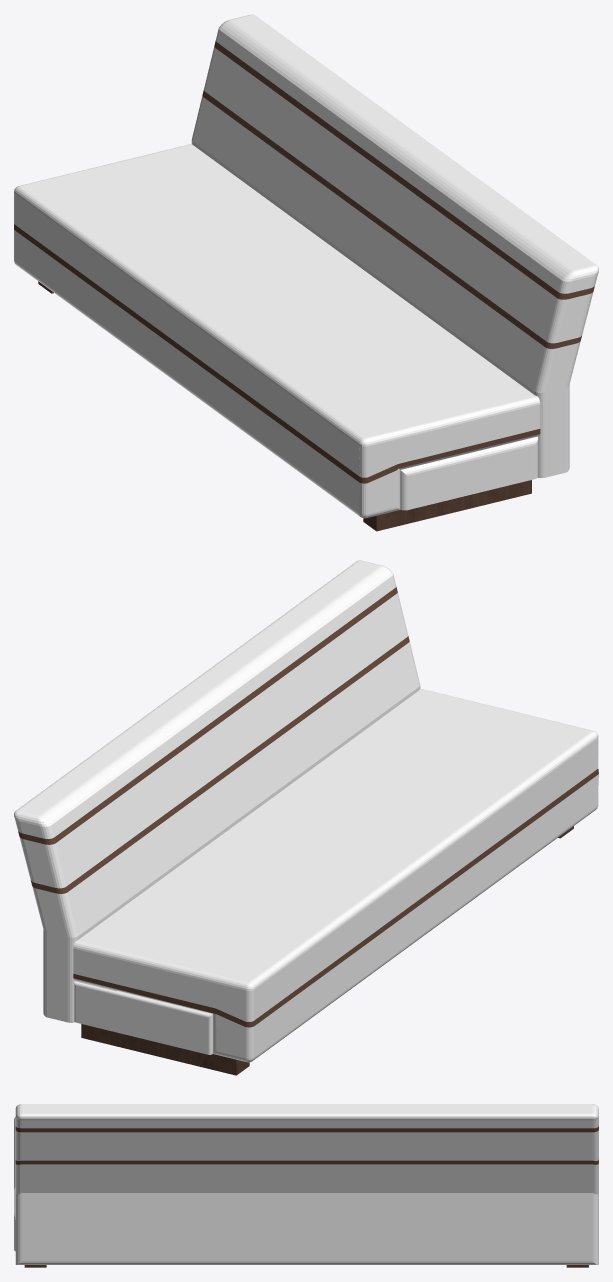
File: Couch.fbx
3 renders of one model, top to bottom at view 1: azimuth 30°, elevation 25°; view 2: azimuth 150°, elevation 25°; view 3: azimuth 270°, elevation 25°, orthographic. The views are drawn at different scales.
Parts seen in each view (by area): view 1: Couch; view 2: Couch; view 3: Couch.
Part boxes in pixels (x1,y1,x2,y2): Couch: (14, 14, 598, 531); Couch: (14, 560, 598, 1075); Couch: (14, 1104, 598, 1267).
Bounding box in the file's own units: 1.53 × 1.3 × 3.86.
